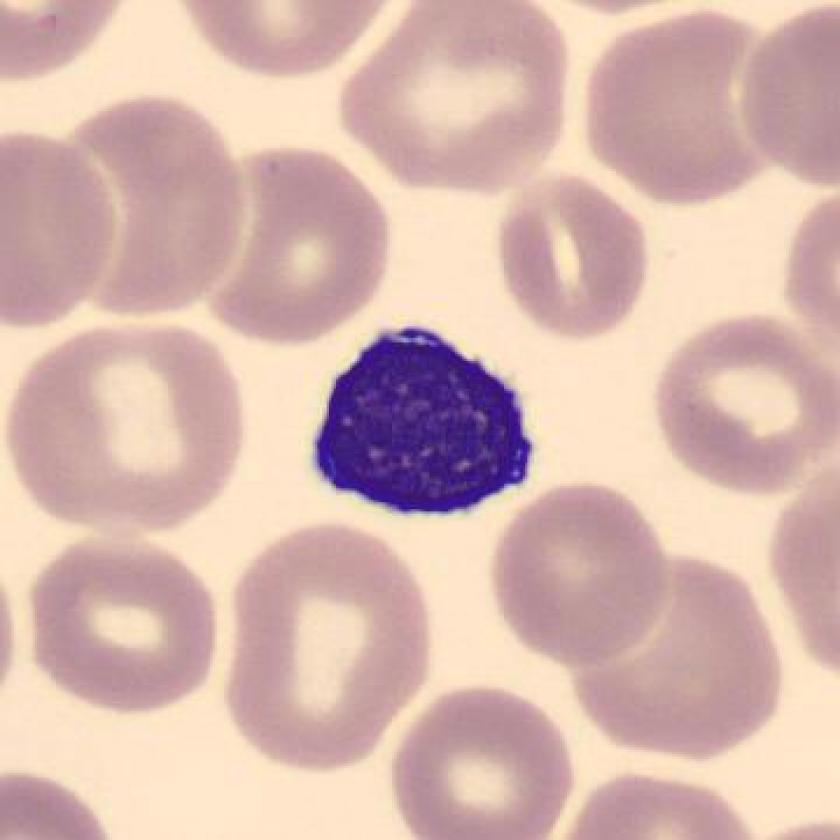lymphocyte: (295, 311, 552, 538)
